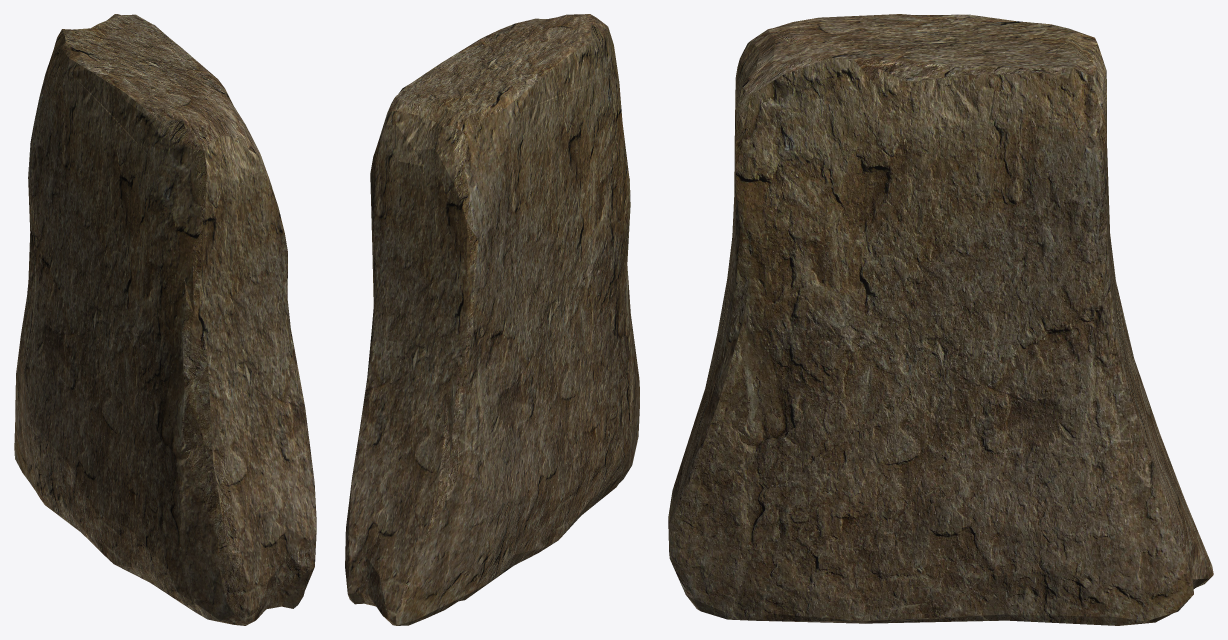
File: tombstone-a.glb
The picture shows the model from 3 angles, left to right: view 1: azimuth 30°, elevation 25°; view 2: azimuth 150°, elevation 25°; view 3: azimuth 270°, elevation 25°; orthographic projection. The views are drawn at different scales.
Visible parts, largest first — view 1: Tombstone; view 2: Tombstone; view 3: Tombstone.
Part boxes in pixels (x1,y1,x2,y2): Tombstone: (14,14,316,625); Tombstone: (345,14,639,625); Tombstone: (668,14,1213,625).
Bounding box in the file's own units: 0.24 × 0.9017 × 0.7957.
1 material, 1 textured.
